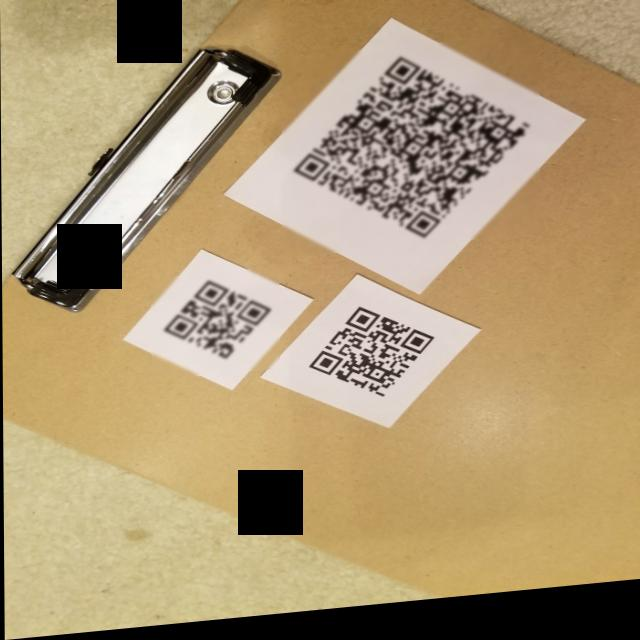QR_CODE: (281, 44, 540, 264), (299, 299, 444, 418), (151, 272, 279, 384)
